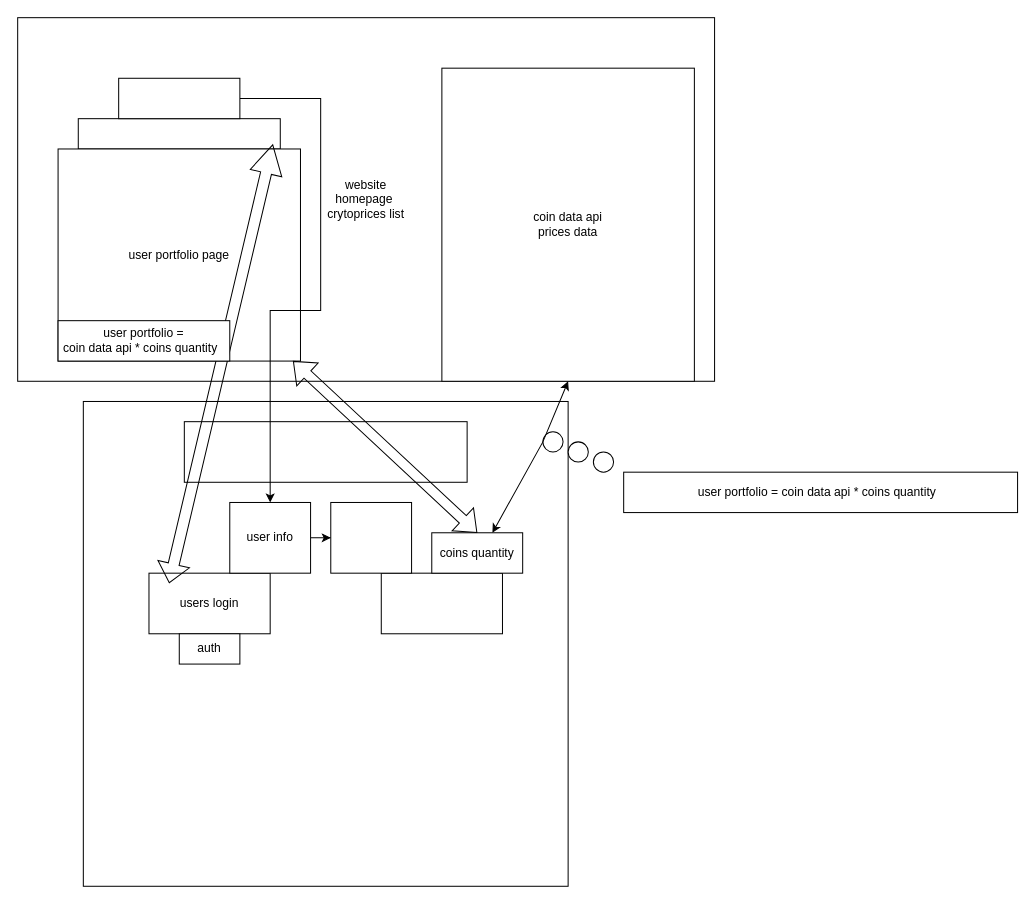
This 1035x904 diagram has some shape labels left out. The centre of each missing label's shape, as x and y in pixels:
Mongo database: point (325, 451)
new user signup: point (179, 98)
user data: point (371, 537)
user loigin: point (178, 133)
user portfolio: point (441, 603)
